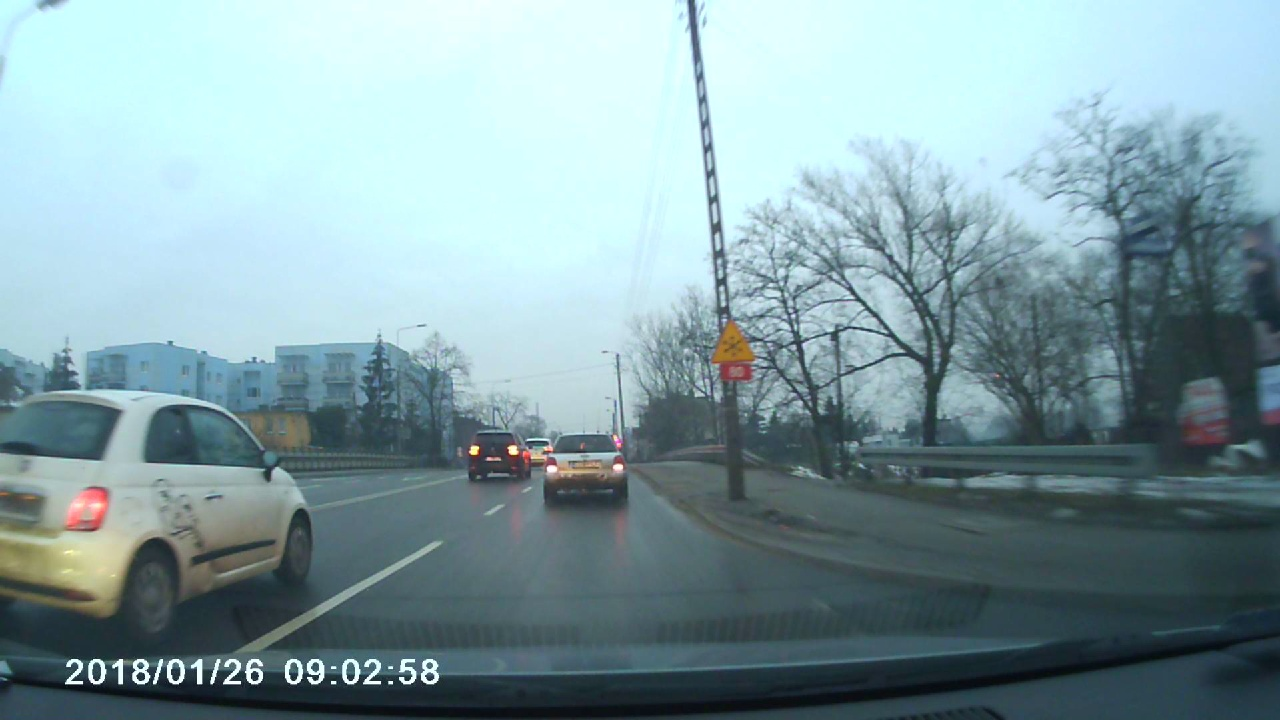A32: (701, 317, 763, 363)
